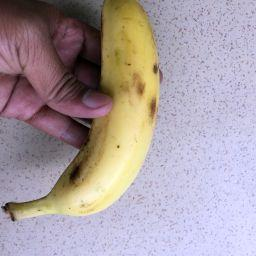Banana Ripe: (22, 3, 182, 229)
